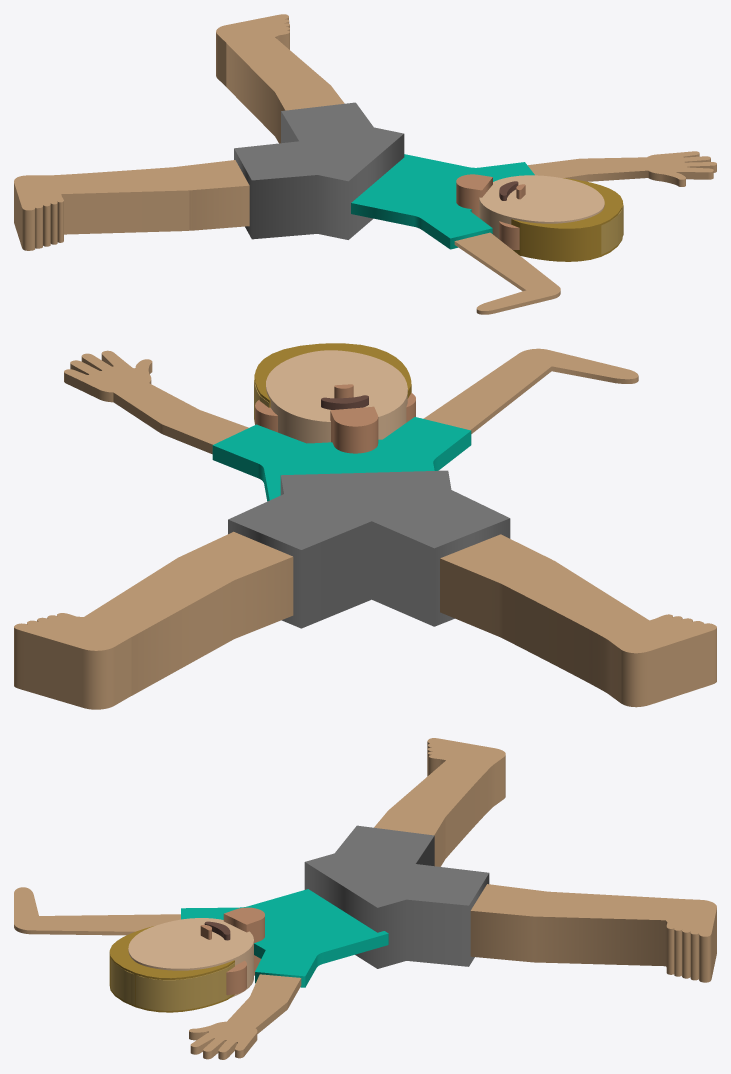
Rendered from emoji_u1f938_1f3fc_200d_2642.glb.
3 views of the same model, one above another, from view 1: azimuth 30°, elevation 25°; view 2: azimuth 150°, elevation 25°; view 3: azimuth 270°, elevation 25° (orthographic). The views are drawn at different scales.
Parts seen in each view (by area): view 1: emoji_u1f938_1f3fc_200d_2642; view 2: emoji_u1f938_1f3fc_200d_2642; view 3: emoji_u1f938_1f3fc_200d_2642.
Boxes of the visible parts, x1,y1,x2,y2 form: emoji_u1f938_1f3fc_200d_2642: [14, 14, 716, 314]; emoji_u1f938_1f3fc_200d_2642: [14, 343, 716, 709]; emoji_u1f938_1f3fc_200d_2642: [14, 738, 716, 1059].
Size of the model in its own units: 0.0333 by 0.0032 by 0.0333.
